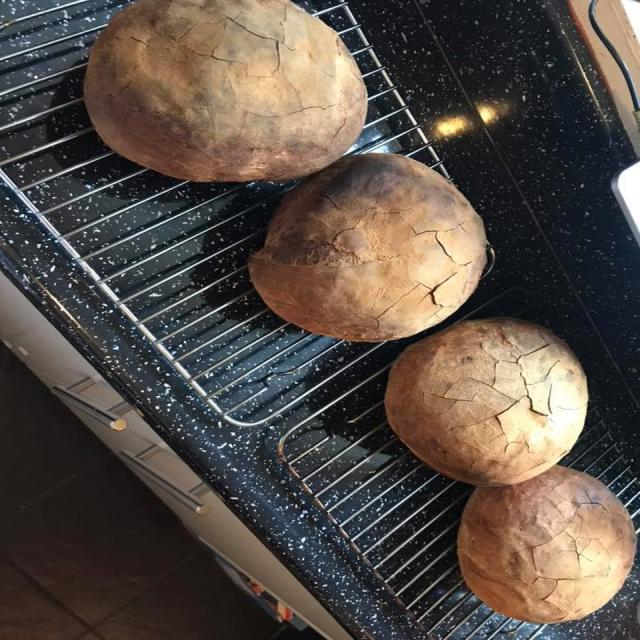Maltese-Bread: (85, 0, 366, 182), (249, 153, 488, 342), (385, 318, 588, 487), (458, 466, 636, 623)
